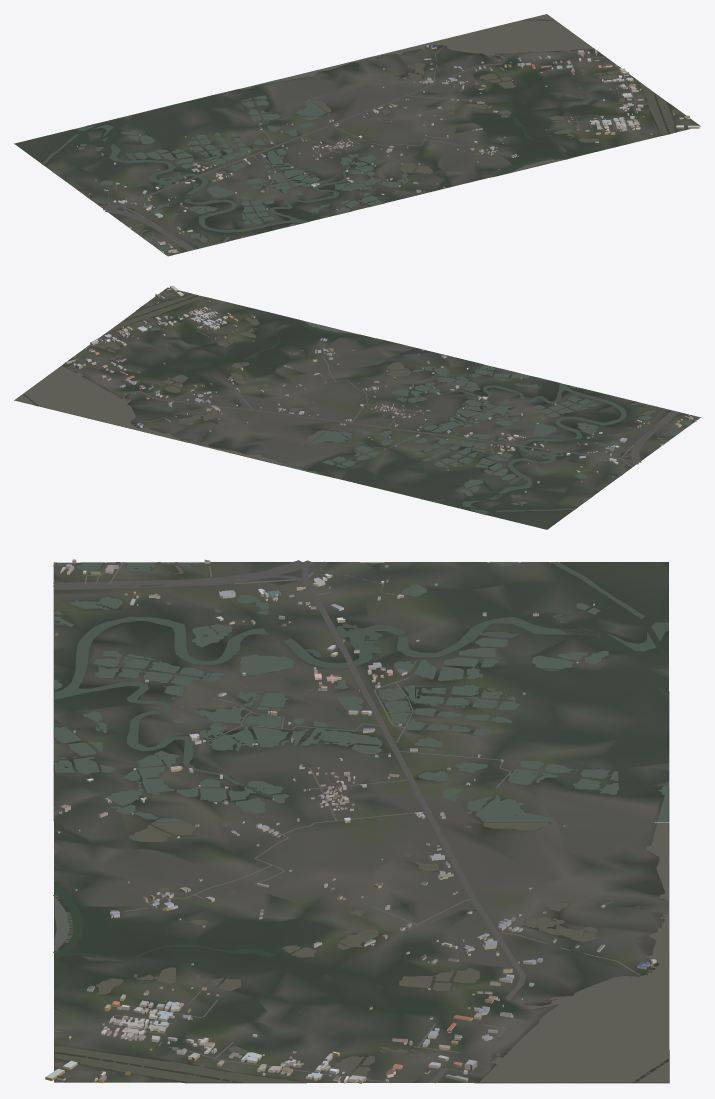
The picture shows the model from 3 angles, top to bottom: view 1: azimuth 30°, elevation 25°; view 2: azimuth 150°, elevation 25°; view 3: azimuth 270°, elevation 25°; orthographic projection. The views are drawn at different scales.
Parts seen in each view (by area): view 1: ground, water, buildings, roads; view 2: ground, water, buildings, roads; view 3: ground, water, buildings, roads.
Part boxes in pixels (x1,y1,x2,y2): ground: (14, 18, 700, 256); water: (42, 14, 688, 255); buildings: (76, 45, 699, 252); roads: (100, 46, 700, 255); ground: (14, 287, 700, 529); water: (15, 290, 699, 514); buildings: (65, 285, 696, 505); roads: (68, 287, 700, 471); ground: (53, 562, 669, 1083); water: (53, 562, 668, 1082); buildings: (45, 559, 656, 1083); roads: (53, 560, 639, 1083).
Bounding box in the file's own units: 2815 × 17.53 × 1420.
